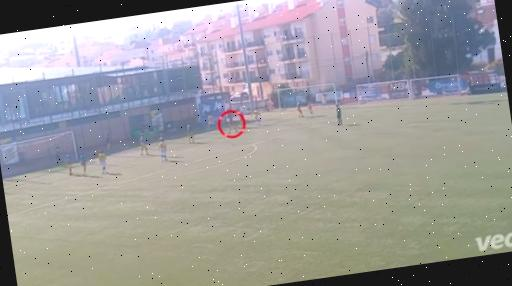highlight_overlay: (214, 106, 250, 142)
